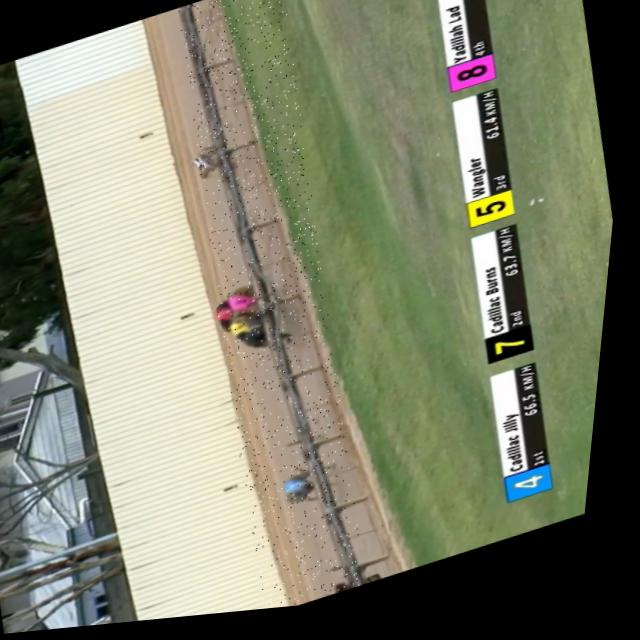dog_eight: (238, 298, 262, 315)
dog_five: (238, 323, 261, 340)
dog_four: (296, 480, 324, 501)
dog_one: (222, 307, 246, 326)
dog_seven: (253, 320, 277, 339)
dog_two: (197, 150, 228, 173)
rail: (179, 9, 378, 595)
